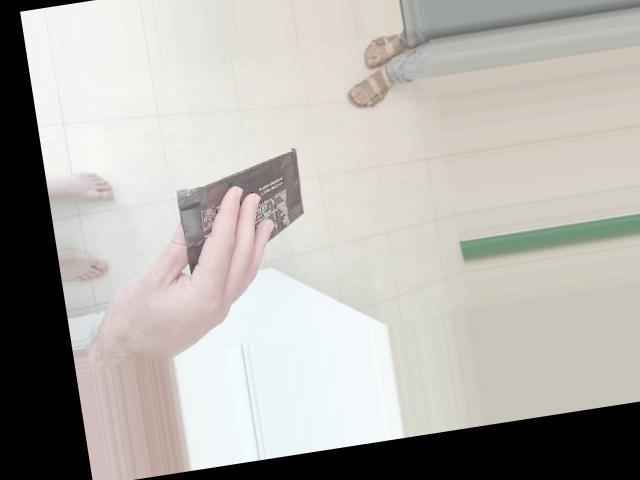chocolate: (207, 34, 353, 200)
